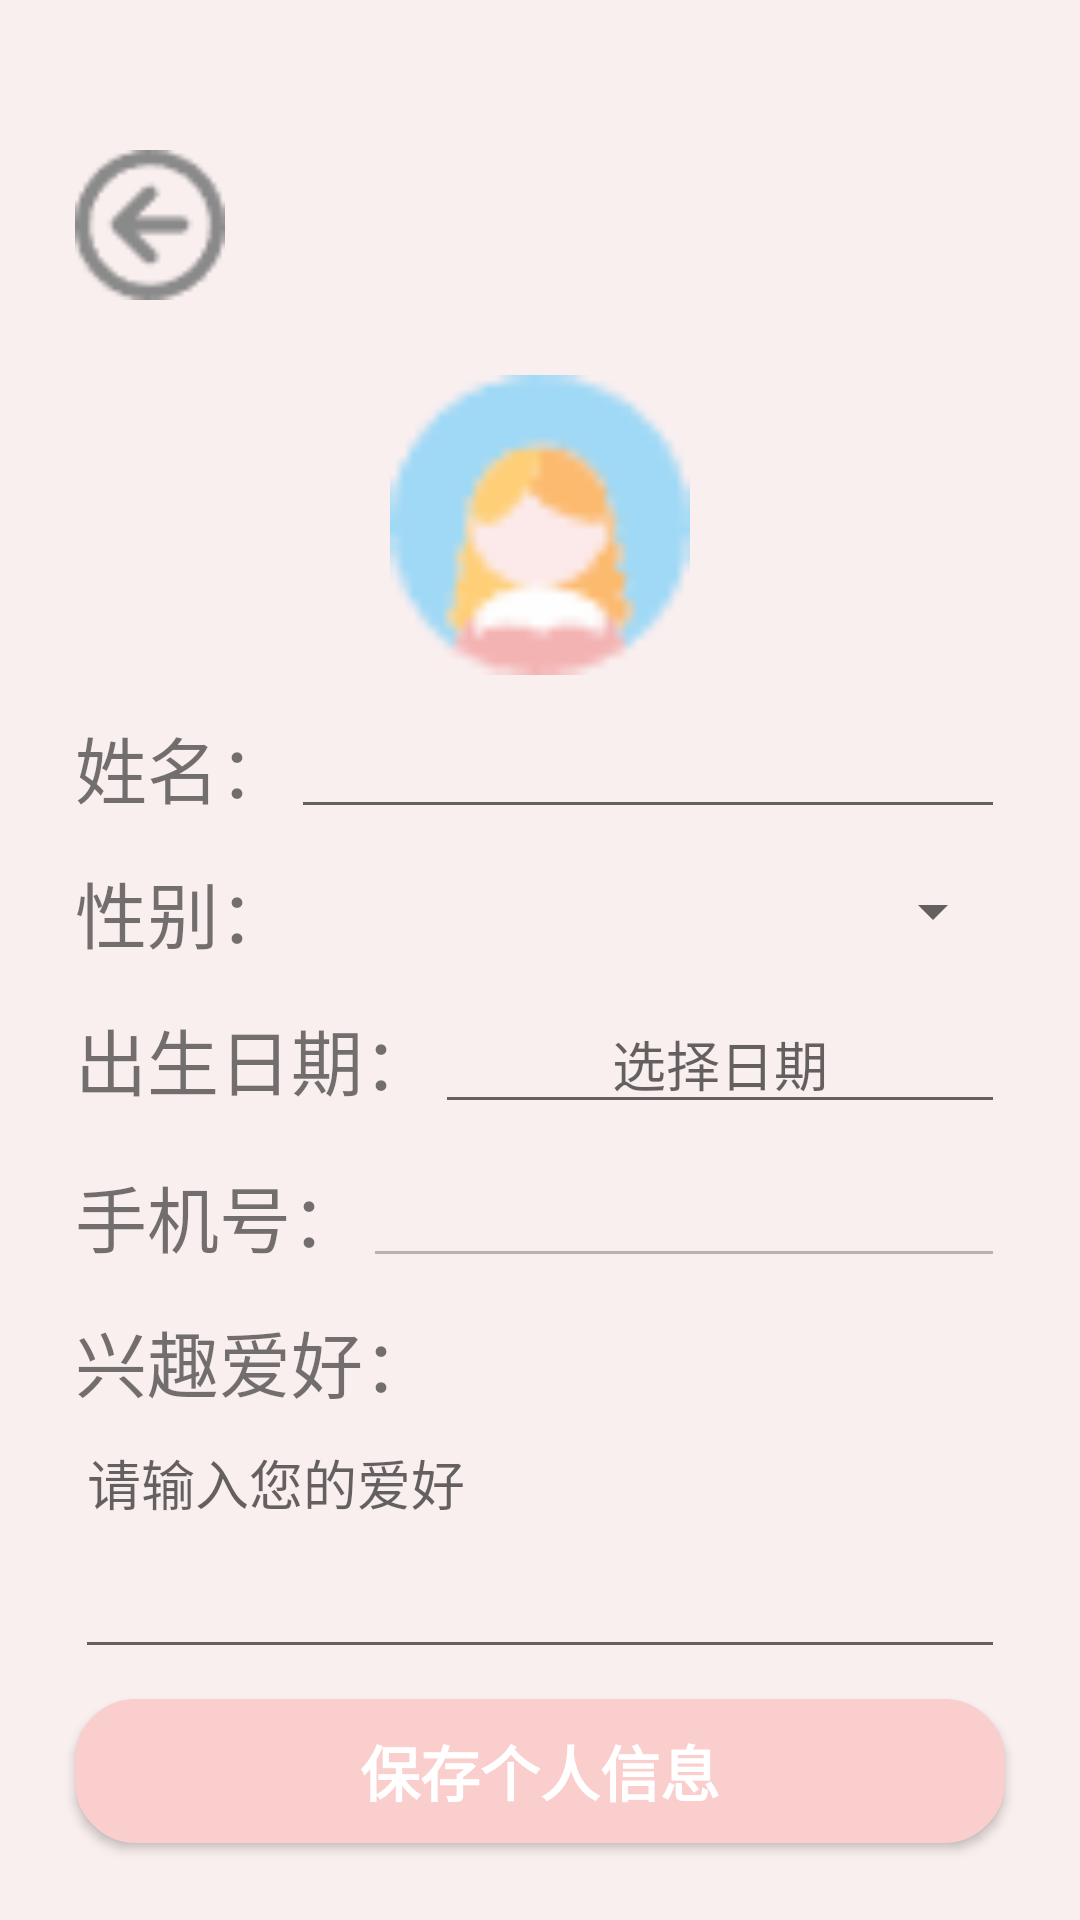

Icon bounding boxes for this 1080px x 1920px phone screenshot, format (x1, y1, x2, y2):
fanjhui: (75, 150, 225, 300)
touxiang: (390, 375, 690, 675)
